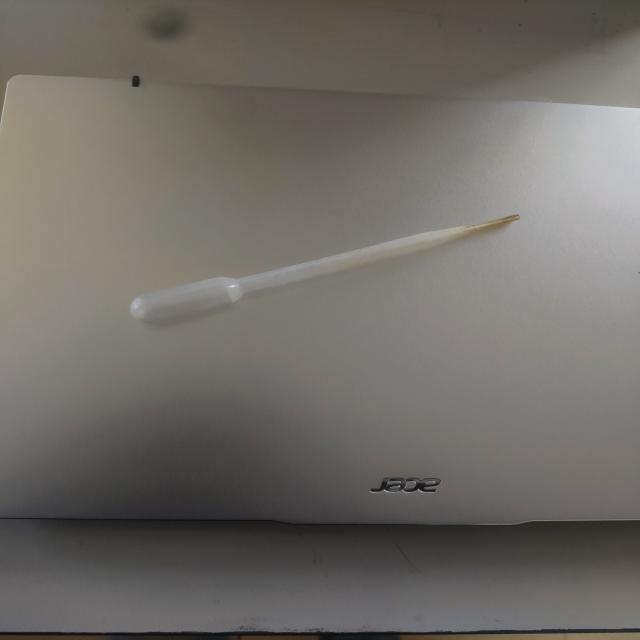Pipette: (103, 172, 538, 360)
